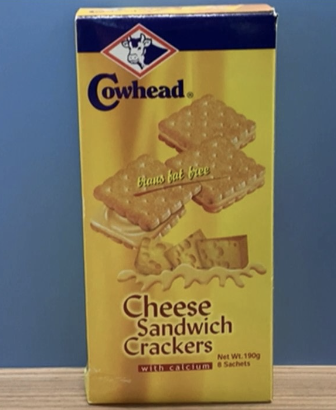crackers_100g-199g: (98, 34, 266, 378)
